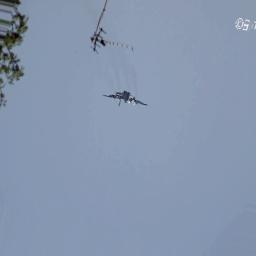Airplane: (101, 90, 149, 107)
